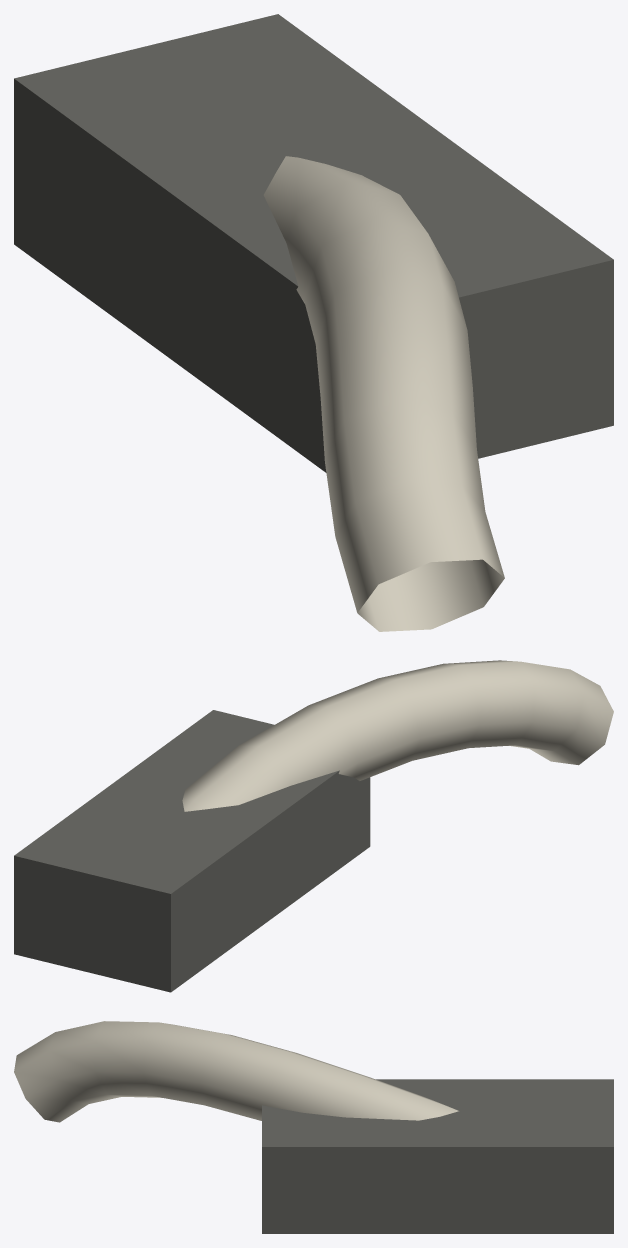
Rendered from kp30_conduit.obj.
The picture shows the model from 3 angles, top to bottom: view 1: azimuth 30°, elevation 25°; view 2: azimuth 150°, elevation 25°; view 3: azimuth 270°, elevation 25°; orthographic projection. The views are drawn at different scales.
Visible parts, largest first — view 1: kp30_conduit; view 2: kp30_conduit; view 3: kp30_conduit.
Part boxes in pixels (x1,y1,x2,y2): kp30_conduit: [14, 14, 613, 631]; kp30_conduit: [14, 660, 613, 992]; kp30_conduit: [14, 1021, 613, 1233].
Bounding box in the file's own units: 0.1733 × 0.0947 × 0.3751.
